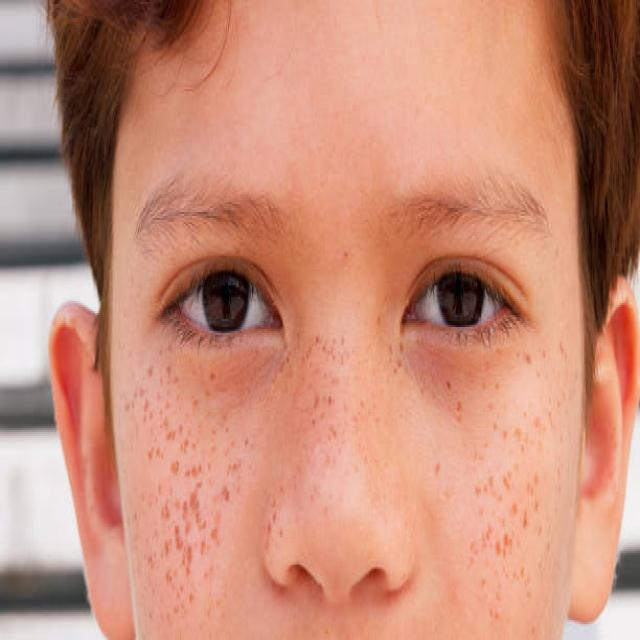no_dark_circle: (138, 354, 274, 403), (412, 344, 528, 388)
